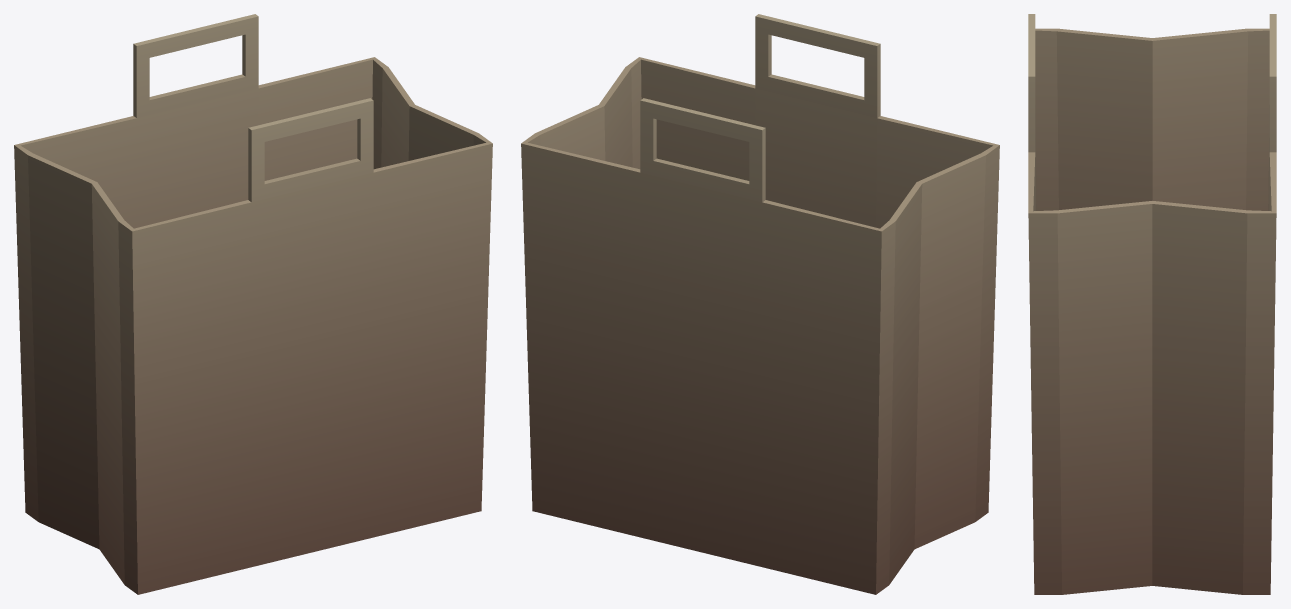
Rendered from DoubleCooked_PaperBag.fbx.
3 views of the same model, side by side, from view 1: azimuth 30°, elevation 25°; view 2: azimuth 150°, elevation 25°; view 3: azimuth 270°, elevation 25° (orthographic). The views are drawn at different scales.
Visible parts, largest first — view 1: DoubleCooked_PaperBag; view 2: DoubleCooked_PaperBag; view 3: DoubleCooked_PaperBag.
Boxes of the visible parts, <box> form: DoubleCooked_PaperBag: <box>14,14,492,594</box>; DoubleCooked_PaperBag: <box>521,14,999,594</box>; DoubleCooked_PaperBag: <box>1028,14,1276,594</box>.
Size of the model in its own units: 26.53 by 30.91 by 15.05.
Materials: 1 (1 with a texture image).
